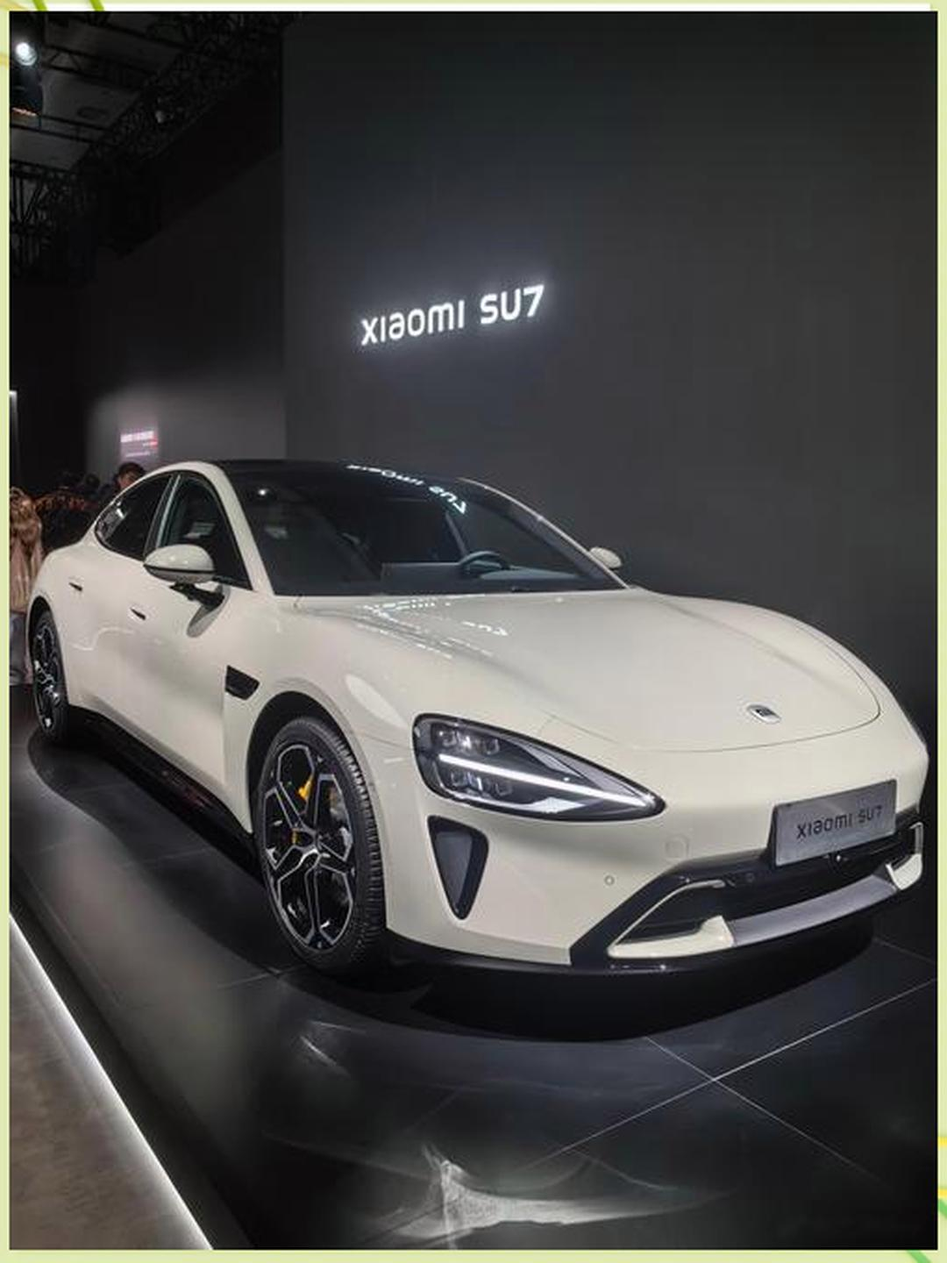su7: (26, 460, 932, 995)
